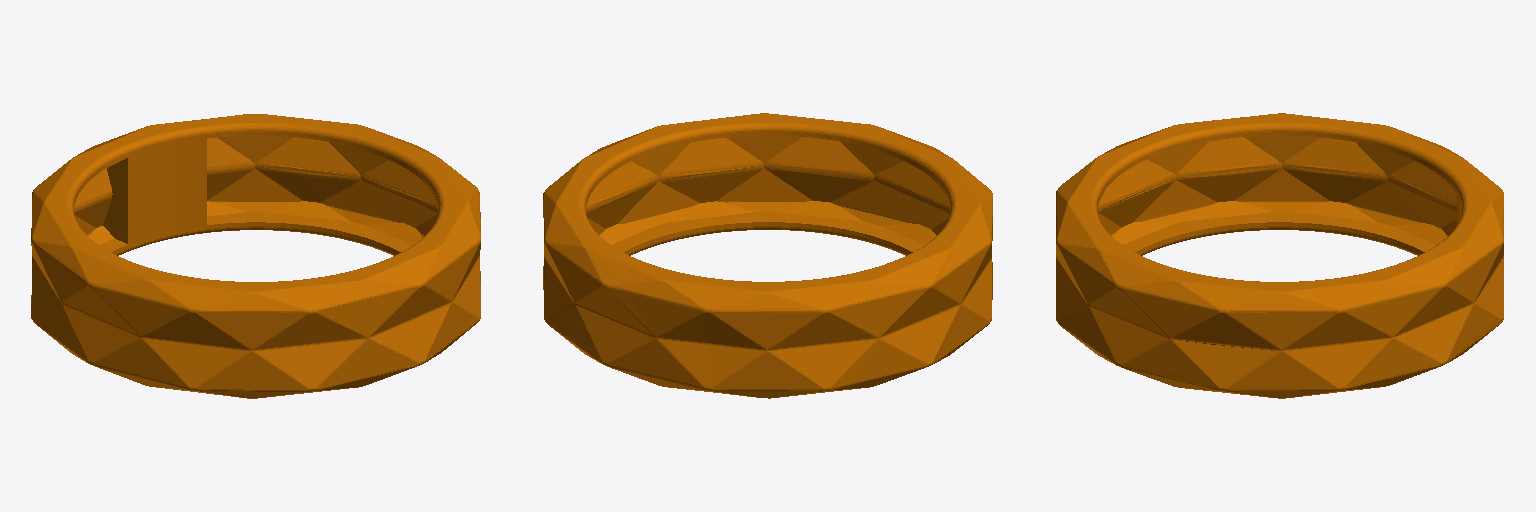
Rendered from ring.obj.
The picture shows the model from 3 angles: view 1: azimuth 30°, elevation 25°; view 2: azimuth 150°, elevation 25°; view 3: azimuth 270°, elevation 25°; orthographic projection.
Parts seen in each view (by area): view 1: uploads_files_[number redacted]_52+(obj).002; view 2: uploads_files_[number redacted]_52+(obj).002; view 3: uploads_files_[number redacted]_52+(obj).002.
Boxes of the visible parts, <box> form: uploads_files_[number redacted]_52+(obj).002: <box>31,114,480,398</box>; uploads_files_[number redacted]_52+(obj).002: <box>543,113,992,398</box>; uploads_files_[number redacted]_52+(obj).002: <box>1056,113,1503,398</box>.
Size of the model in its own units: 20.42 by 5.34 by 20.34.